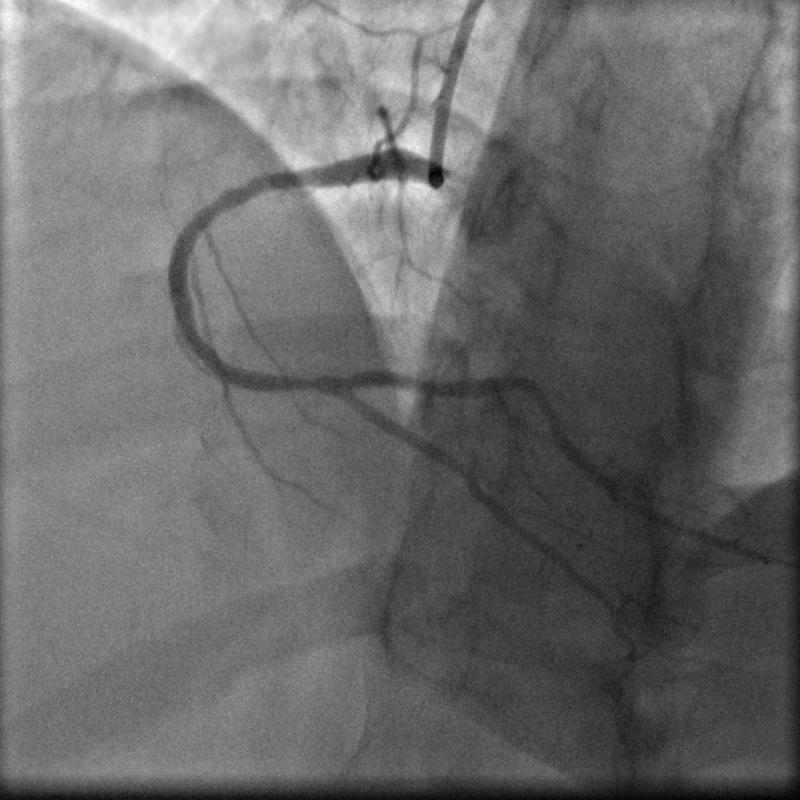Stenosis: (287, 368, 327, 397)
